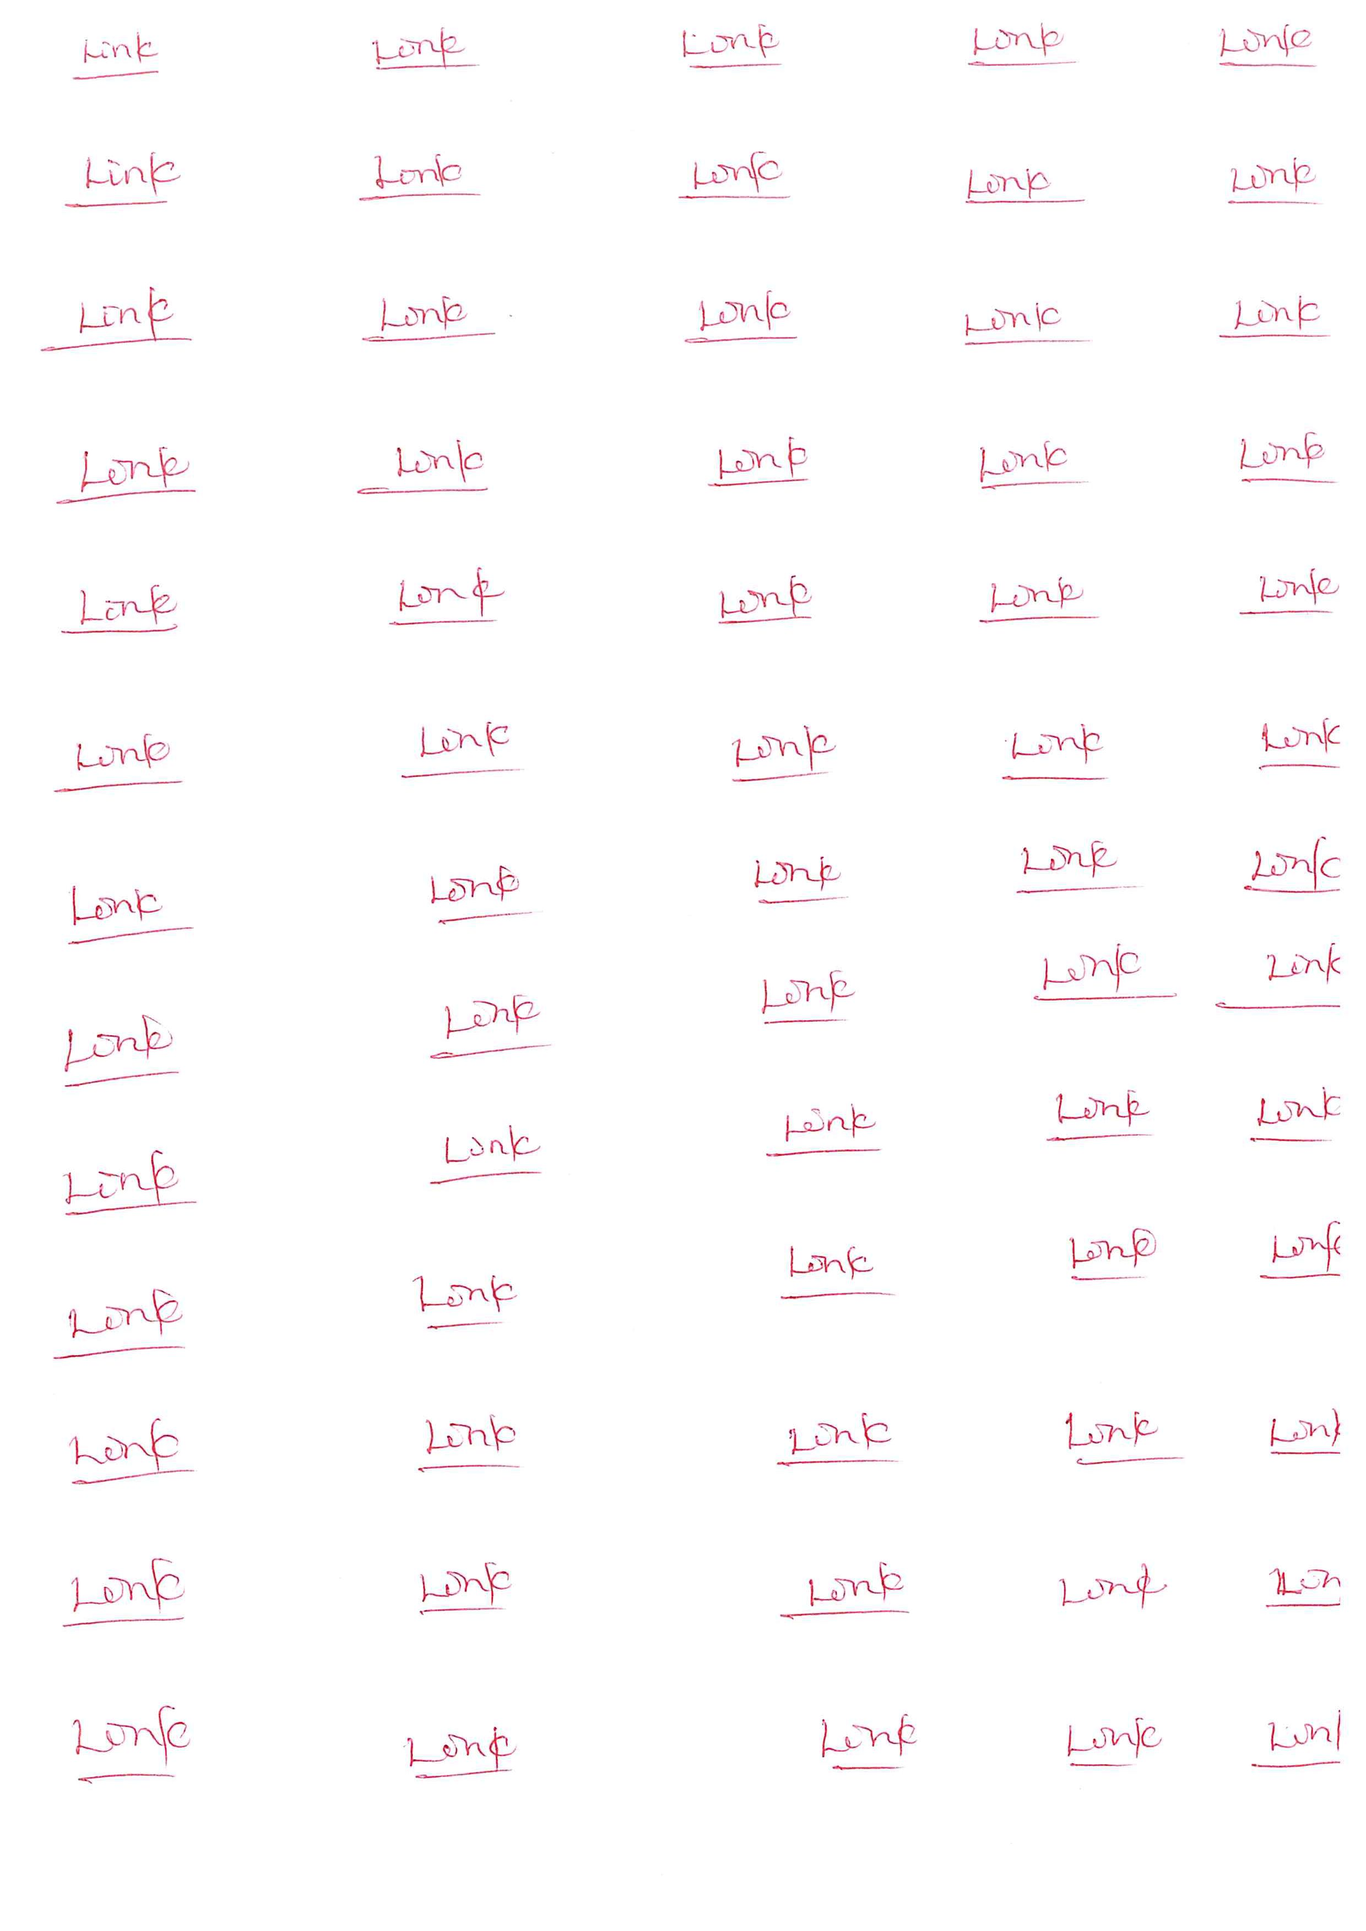Link: (55, 442, 204, 509), (59, 1014, 189, 1090), (38, 287, 180, 353), (62, 877, 186, 952), (50, 1291, 182, 1359), (49, 729, 179, 795), (427, 988, 544, 1062), (67, 1416, 183, 1489), (58, 1150, 182, 1218), (352, 439, 489, 498), (352, 288, 483, 349), (387, 563, 501, 631), (1036, 940, 1156, 1004), (426, 1122, 543, 1187), (407, 1266, 520, 1331), (56, 580, 180, 637), (396, 719, 512, 781), (414, 1411, 520, 1477), (349, 151, 472, 208), (726, 724, 840, 787), (1239, 835, 1350, 899), (1014, 834, 1119, 900), (1061, 1402, 1163, 1470), (996, 722, 1101, 787), (776, 1412, 891, 1471), (61, 151, 182, 207), (775, 1239, 881, 1303), (421, 866, 529, 927), (679, 291, 794, 347), (1231, 429, 1332, 491), (1047, 1090, 1155, 1147), (674, 149, 786, 204), (751, 971, 852, 1032), (1242, 1090, 1347, 1147), (971, 436, 1081, 491), (976, 574, 1087, 627), (1212, 291, 1329, 342), (769, 1107, 877, 1161), (676, 19, 781, 74), (1234, 566, 1336, 622), (1248, 714, 1342, 773), (707, 438, 809, 492), (713, 577, 815, 631), (962, 299, 1064, 350), (964, 21, 1072, 69), (751, 852, 840, 911), (1214, 21, 1314, 72), (67, 31, 164, 81), (1221, 157, 1316, 208), (1067, 1226, 1152, 1280), (962, 164, 1067, 207), (370, 30, 464, 75)
